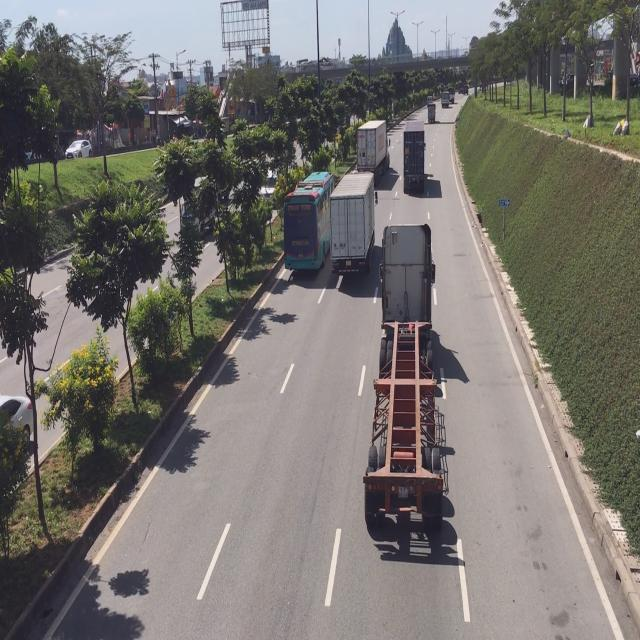bus: (282, 169, 332, 277)
truck: (364, 224, 449, 546), (330, 169, 376, 281), (355, 118, 390, 182), (403, 120, 425, 194)
